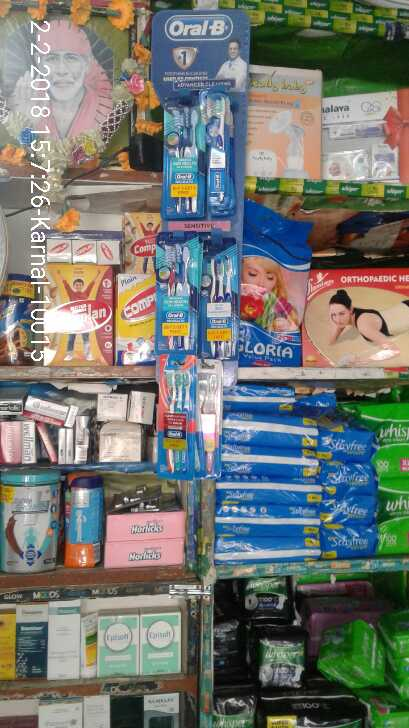oralb: (150, 227, 200, 358), (204, 87, 237, 211), (157, 365, 194, 474), (201, 228, 230, 365), (162, 105, 195, 208)
